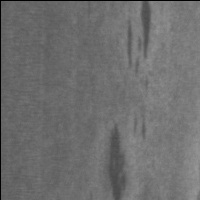inclusion: (124, 2, 156, 145), (104, 122, 129, 200)
